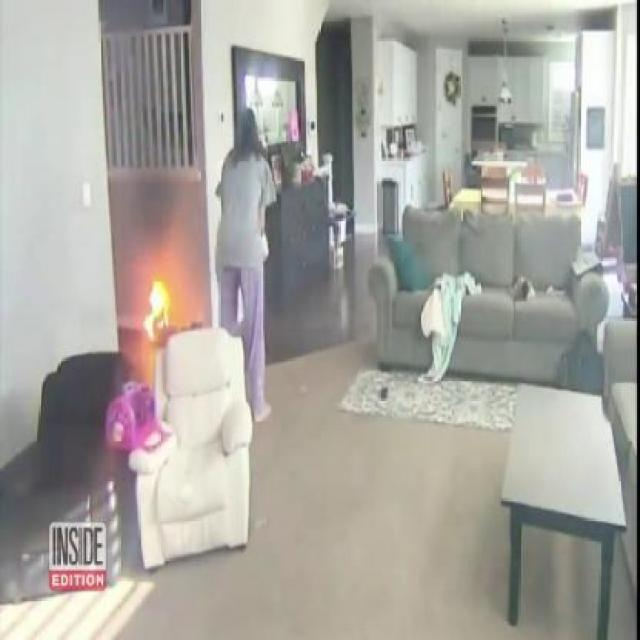fire: (122, 248, 182, 348)
